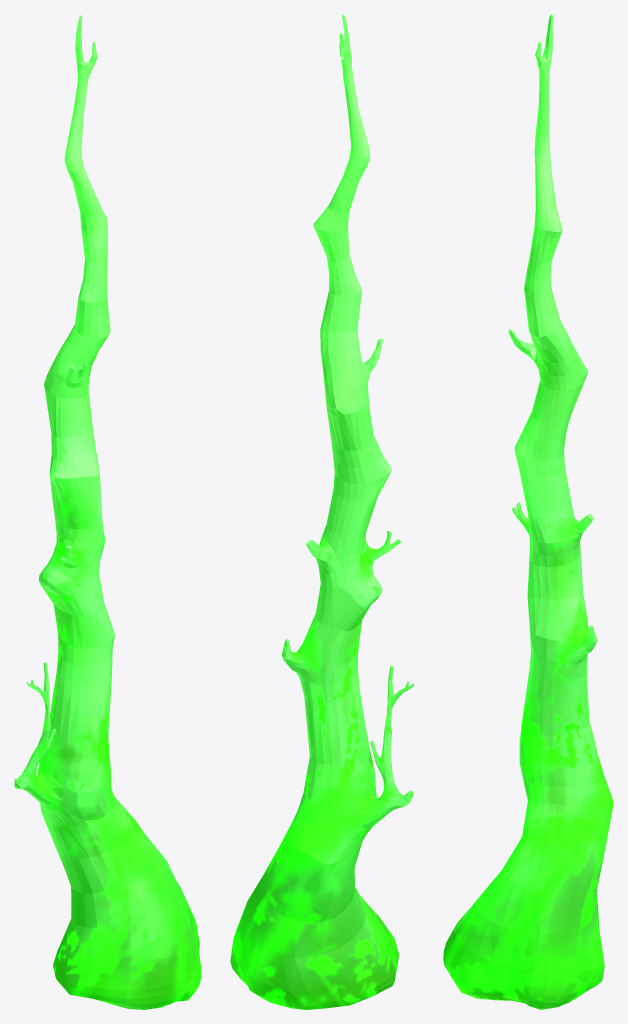
The model's file is DBirchC.fbx.
3 views of the same model, side by side, from view 1: azimuth 30°, elevation 25°; view 2: azimuth 150°, elevation 25°; view 3: azimuth 270°, elevation 25° (orthographic). The views are drawn at different scales.
Visible parts, largest first — view 1: Dn_EN_Tree_Birch_C.mo; view 2: Dn_EN_Tree_Birch_C.mo; view 3: Dn_EN_Tree_Birch_C.mo.
Part boxes in pixels (left/top/right/bottom): Dn_EN_Tree_Birch_C.mo: left=14, top=14, right=201, bottom=1009; Dn_EN_Tree_Birch_C.mo: left=230, top=14, right=414, bottom=1009; Dn_EN_Tree_Birch_C.mo: left=443, top=14, right=613, bottom=1009.
Bounding box in the file's own units: 246 × 1289 × 209.
